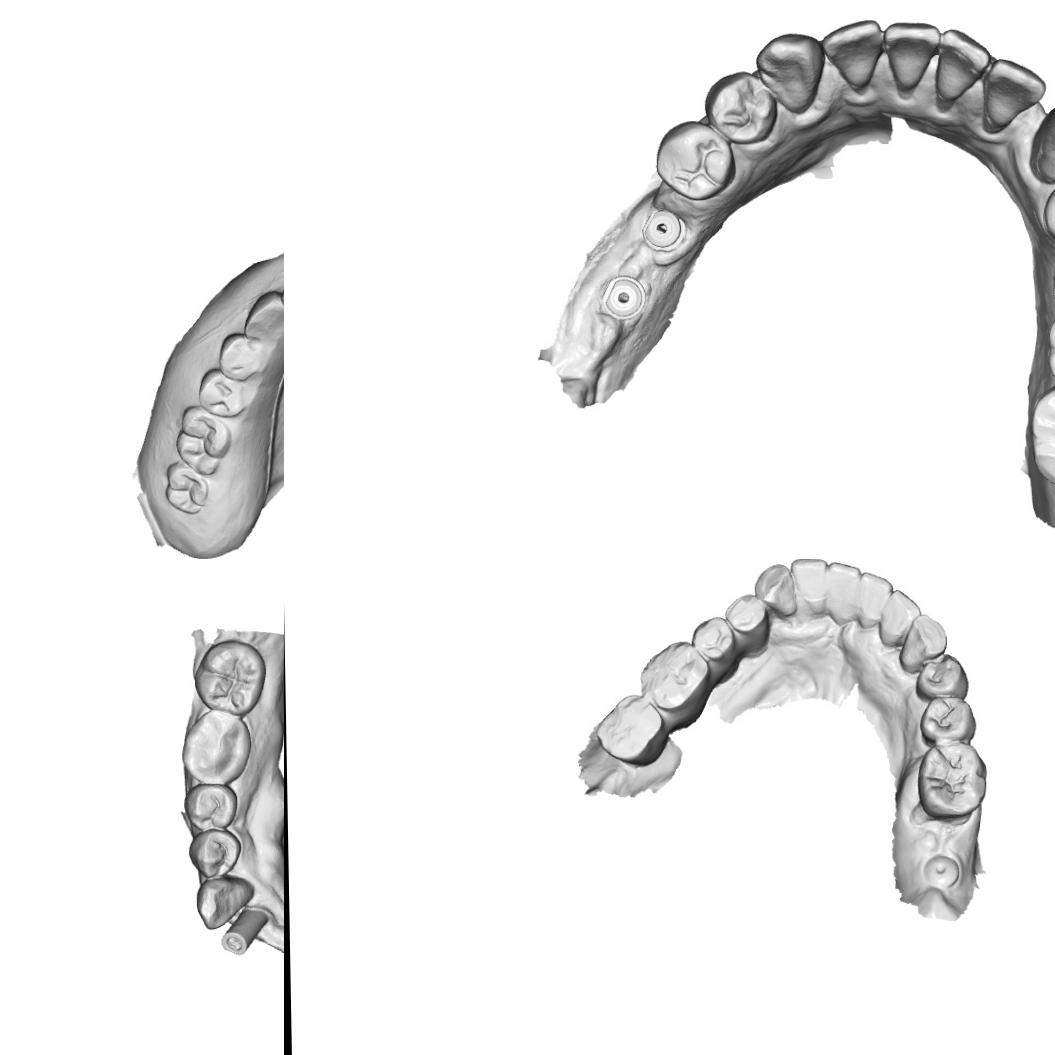canine: (756, 30, 826, 115), (194, 874, 256, 931), (897, 612, 948, 674), (754, 562, 797, 617), (240, 288, 284, 340), (1029, 102, 1055, 182)
implant: (216, 904, 270, 958), (602, 274, 650, 326), (639, 205, 683, 253)
incisor: (819, 18, 884, 92), (982, 57, 1046, 132), (932, 28, 994, 102), (884, 20, 940, 94), (823, 559, 863, 628), (876, 588, 922, 648), (856, 570, 895, 632), (791, 559, 829, 618)
molar: (636, 639, 712, 720), (179, 706, 254, 787), (593, 691, 671, 768), (192, 638, 268, 716), (916, 742, 989, 820), (174, 403, 233, 476), (1027, 383, 1055, 492), (162, 460, 212, 516)
premolar: (657, 117, 735, 204), (703, 68, 777, 146), (918, 695, 978, 746), (187, 827, 244, 880), (724, 592, 771, 656), (690, 615, 740, 674), (182, 782, 240, 832), (912, 652, 970, 702), (196, 365, 248, 419), (216, 330, 268, 383)
